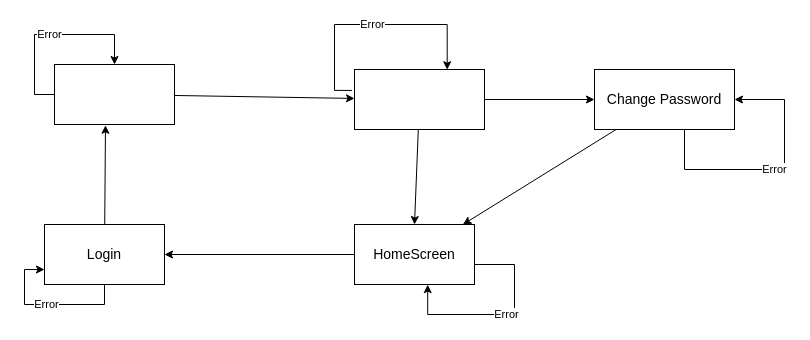
Image size: 810x340. Some labels were removed from this diagram. Each missing label, with the centre of its shape:
"Login as Admin" goes at (x=114, y=94).
"User Manager" goes at (x=419, y=99).
